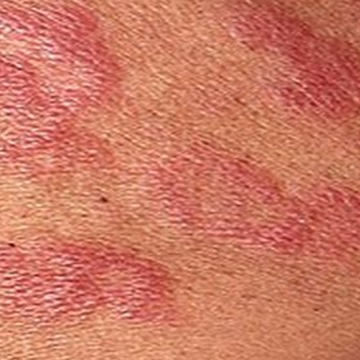Leprosy: (0, 0, 116, 182), (220, 0, 358, 125), (0, 238, 186, 329)
